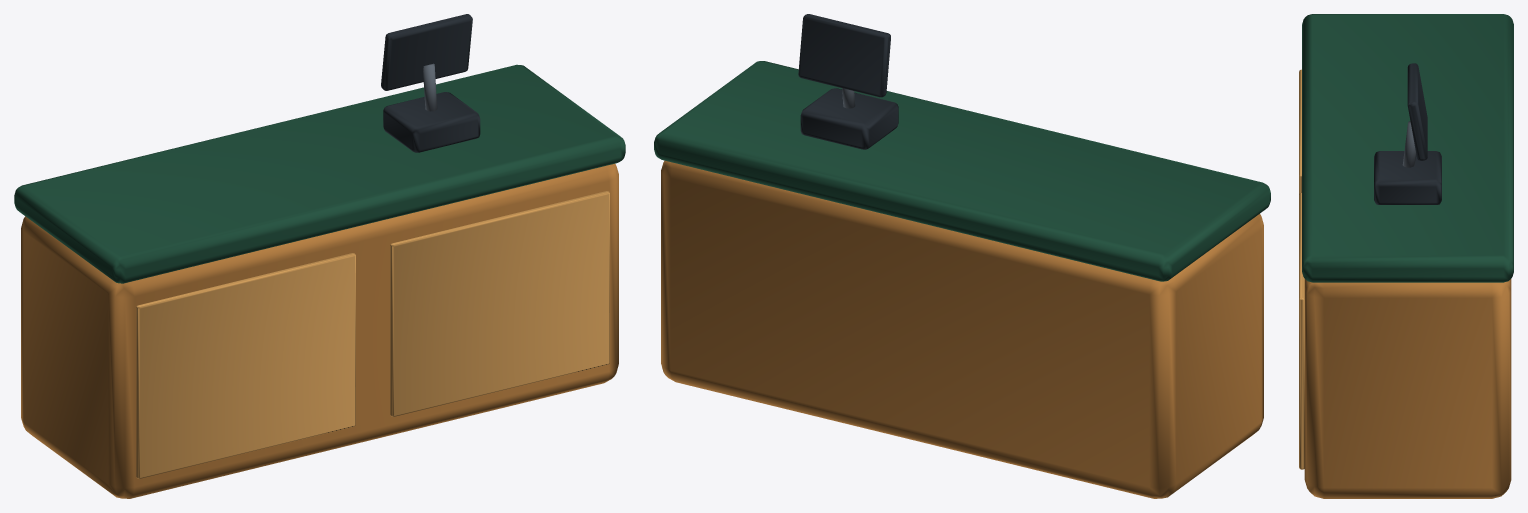
File: store-checkout.glb
3 views of the same model, side by side, from view 1: azimuth 30°, elevation 25°; view 2: azimuth 150°, elevation 25°; view 3: azimuth 270°, elevation 25° (orthographic).
Parts seen in each view (by area): view 1: interior_0_woodLight, interior_0_trim, interior_0_wood, interior_0_dark; view 2: interior_0_wood, interior_0_trim, interior_0_dark; view 3: interior_0_trim, interior_0_wood, interior_0_dark, interior_0_woodLight, interior_0_metal.
Boxes of the visible parts, x1=… form: interior_0_woodLight: x1=136, y1=191, x2=609, y2=478; interior_0_trim: x1=14, y1=64, x2=625, y2=283; interior_0_wood: x1=21, y1=163, x2=618, y2=498; interior_0_dark: x1=381, y1=14, x2=480, y2=152; interior_0_wood: x1=661, y1=160, x2=1263, y2=498; interior_0_trim: x1=654, y1=61, x2=1270, y2=281; interior_0_dark: x1=798, y1=14, x2=898, y2=149; interior_0_trim: x1=1302, y1=14, x2=1513, y2=282; interior_0_wood: x1=1304, y1=279, x2=1511, y2=498; interior_0_dark: x1=1374, y1=63, x2=1441, y2=204; interior_0_woodLight: x1=1299, y1=69, x2=1304, y2=469; interior_0_metal: x1=1402, y1=121, x2=1416, y2=167.
Bounding box in the file's own units: 2.42 × 1.6 × 0.8825.
